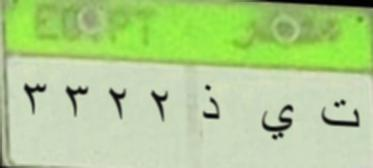2: (105, 84, 134, 127), (149, 87, 175, 130)
3: (21, 76, 48, 122), (61, 81, 90, 123)
taa: (317, 94, 364, 134)
yaa: (255, 100, 298, 144)
zaal: (196, 82, 225, 127)
